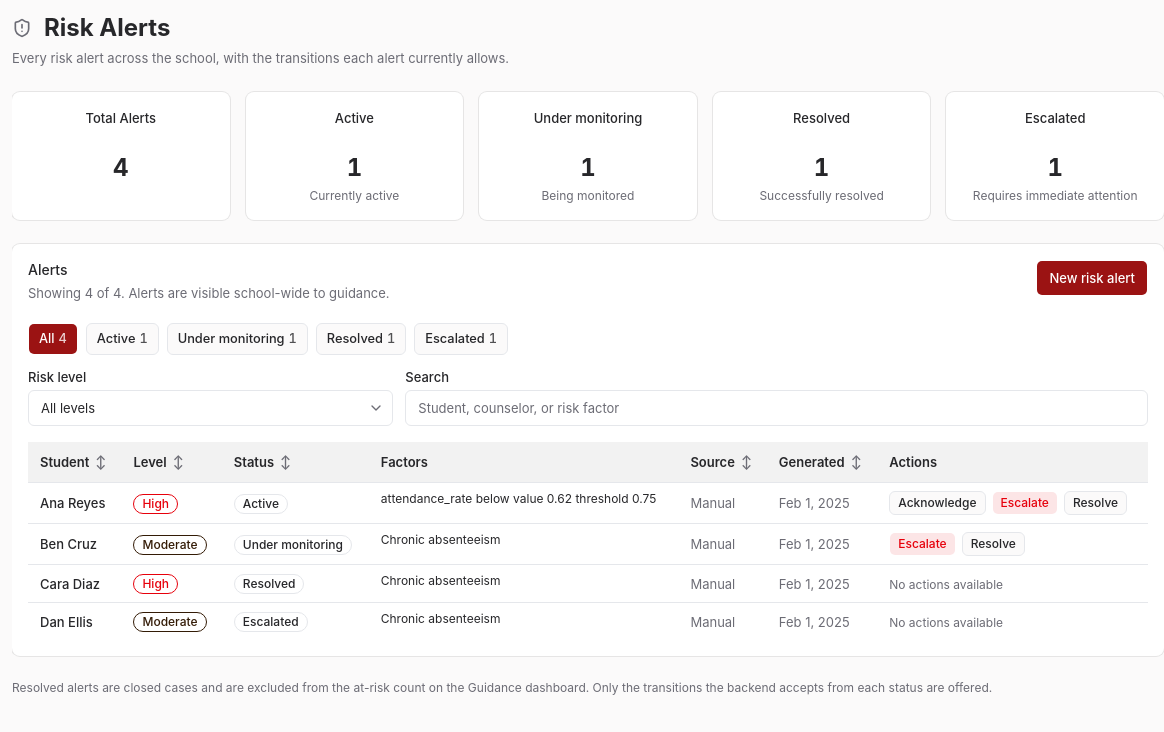
Scenario: RiskAlertsPage › finds an object-shaped factor through the search box
Expected: the text "Ana Reyes" is shown, top-left (40, 493), bottom-right (109, 513)
Step 1. Type "attendance_rate" into the search field labelled "Search" → (777, 408), box top-left (405, 390), bottom-right (1148, 426)
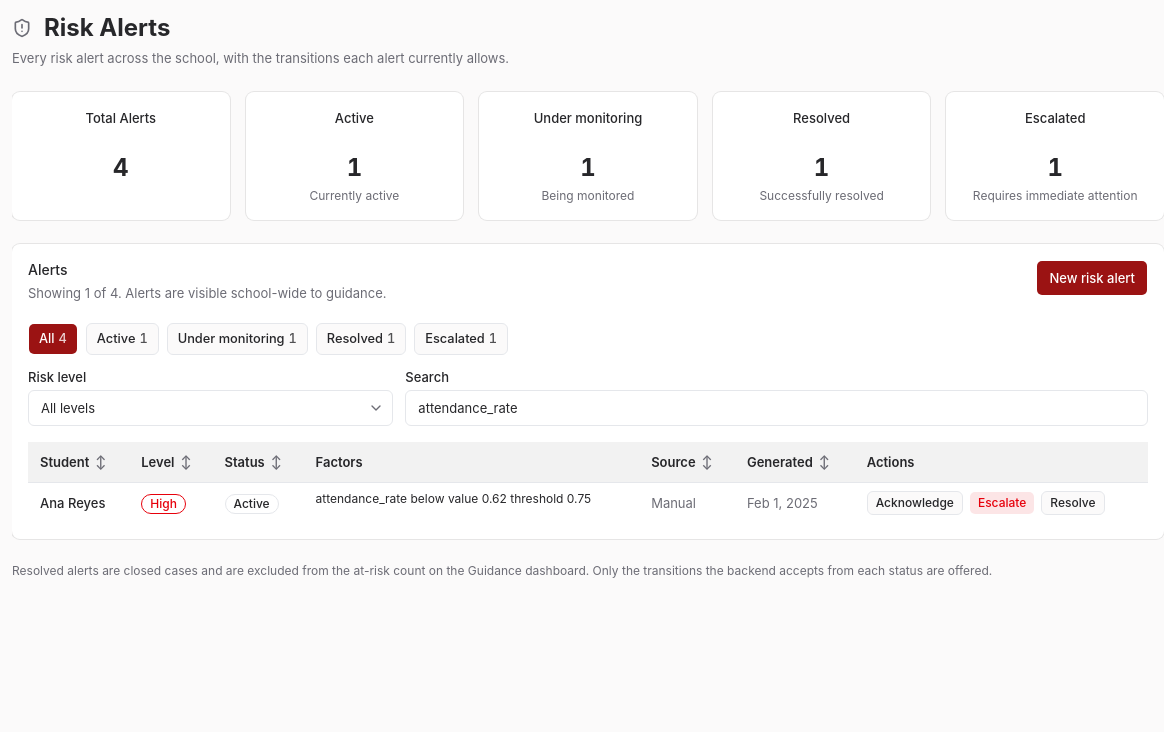
Expected: the text "Ana Reyes" is shown, top-left (40, 495), bottom-right (105, 511)
Expected: the text "Ben Cruz" is gone
